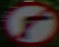Don't turn right: (6, 4, 48, 36)
